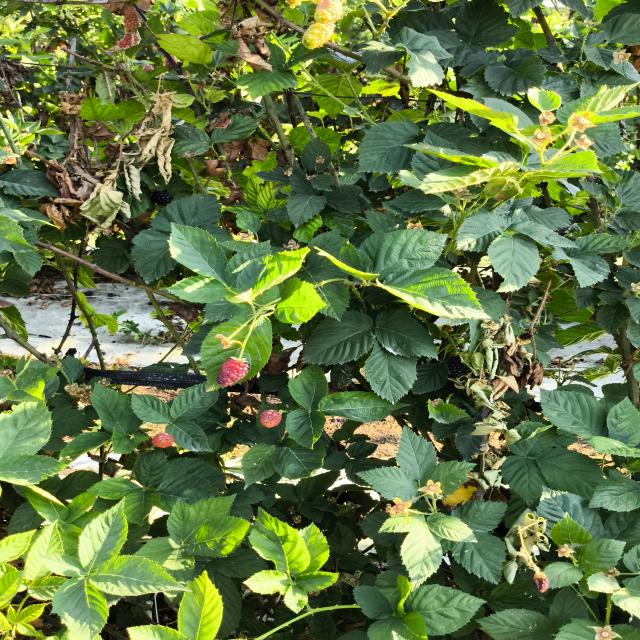maduro: (447, 356, 470, 377), (150, 190, 173, 207)
marron: (216, 358, 249, 386)
naranja: (259, 409, 282, 428), (151, 433, 174, 448)
verde: (302, 22, 334, 49), (315, 0, 343, 24)
